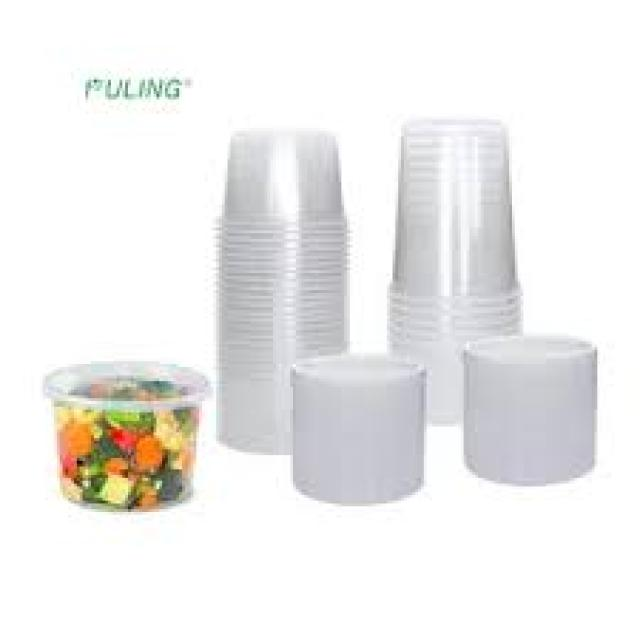disposable: (270, 333, 484, 522), (38, 364, 240, 537), (450, 325, 592, 491)
